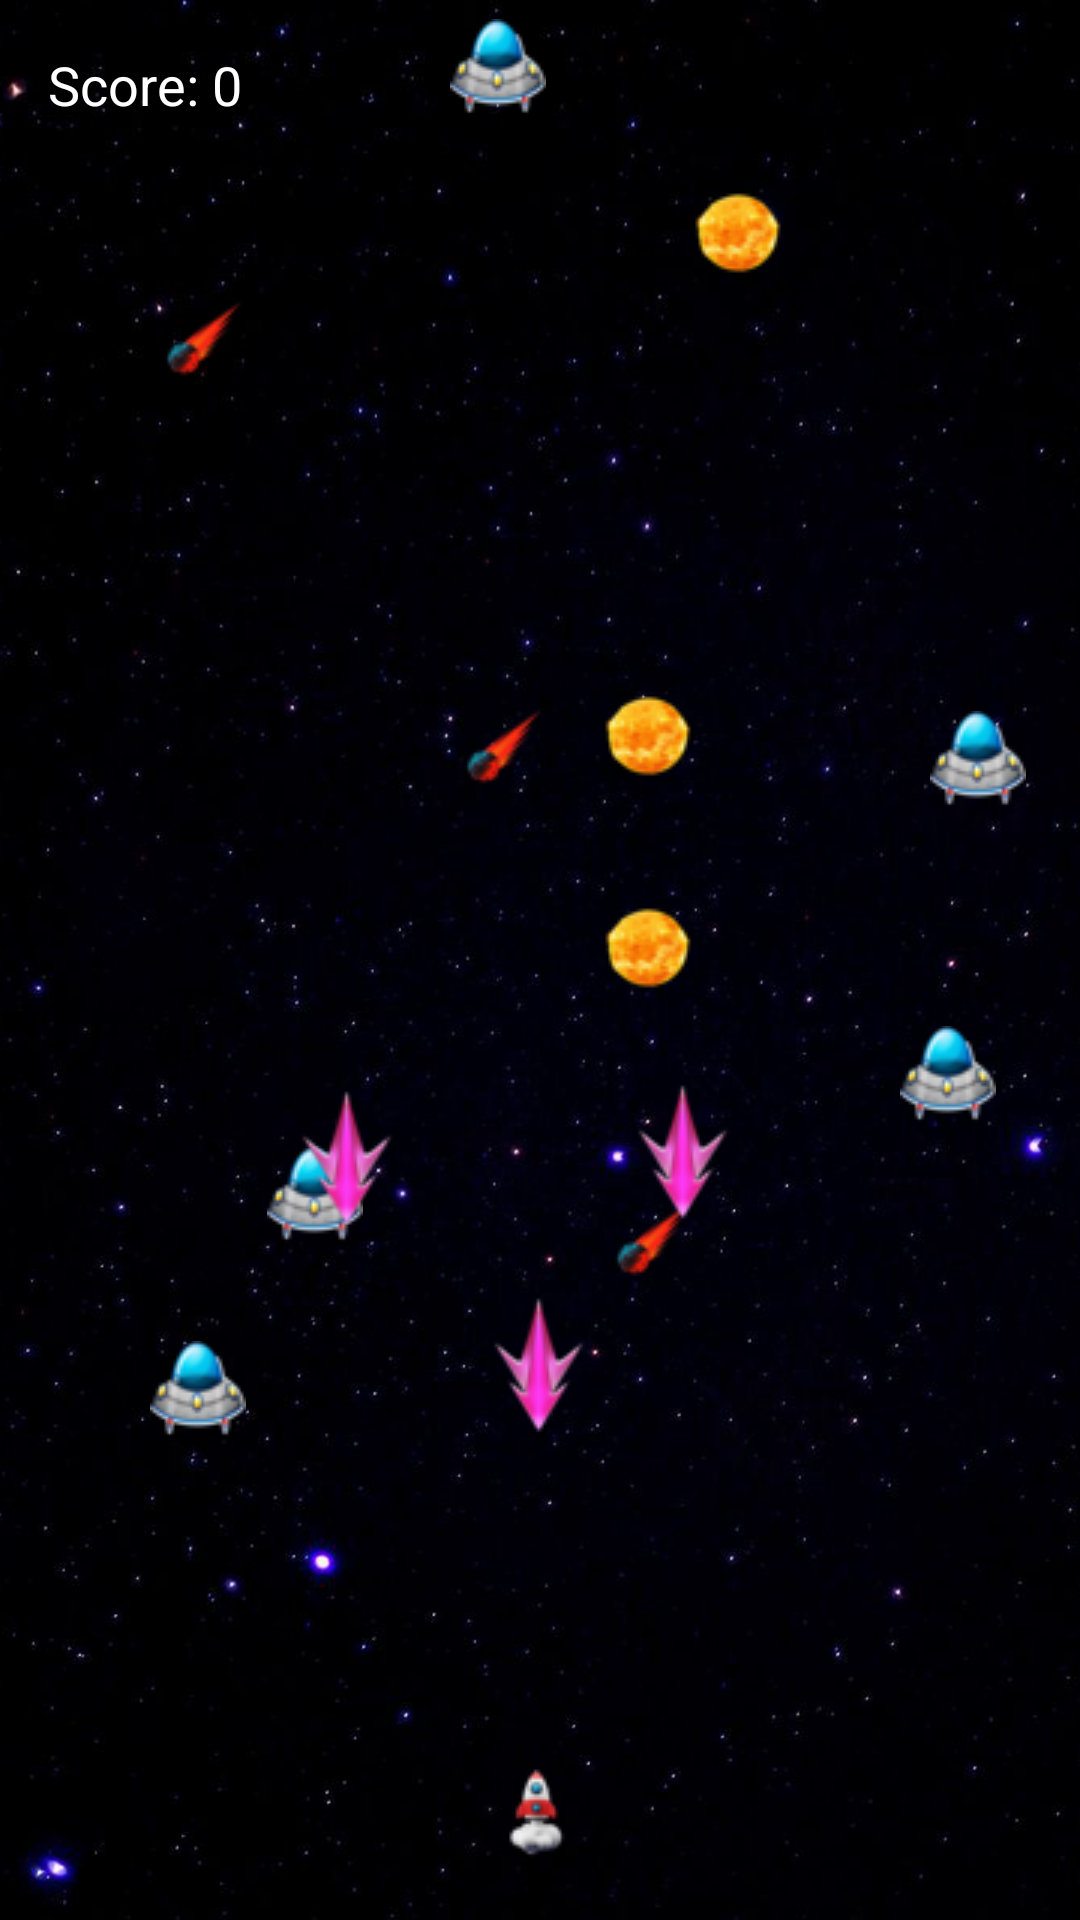

Named icons in this screenshot (1080 x 1920) and their bounding boxes, (x1, y1, x2, y2):
asteroids: (153, 300, 244, 376), (450, 712, 539, 792), (617, 1200, 696, 1275)
collectibles sun: (695, 193, 781, 273), (605, 694, 696, 776), (605, 908, 696, 995)
rocket: (509, 1764, 588, 1855)
